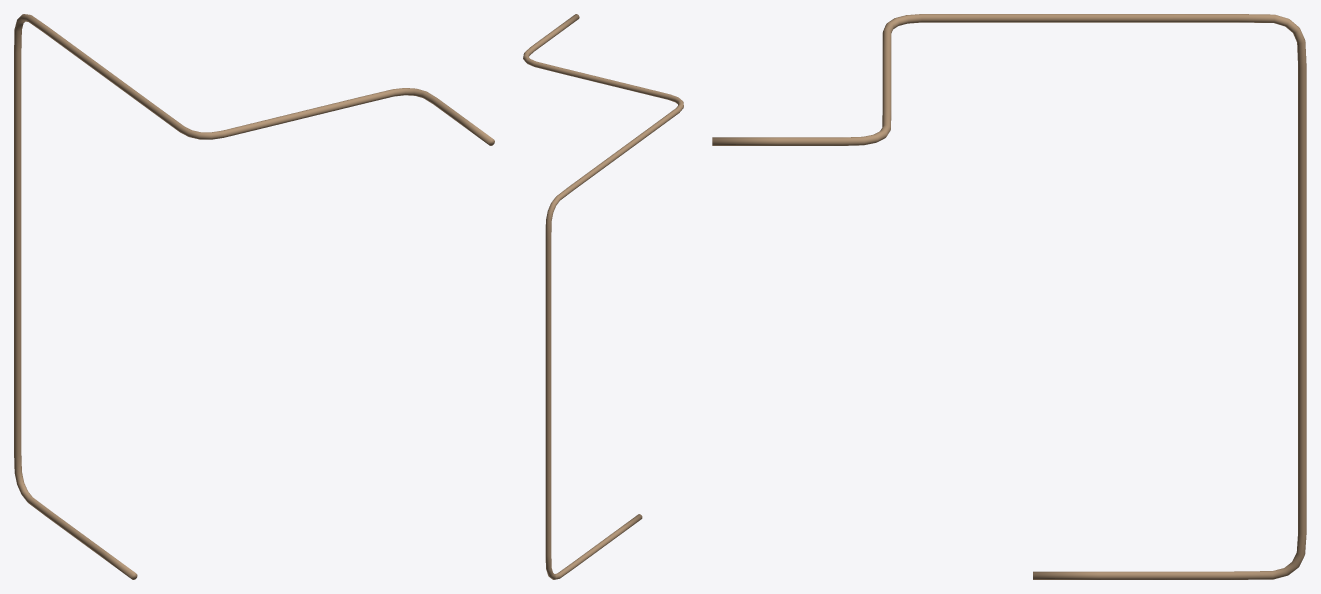
Rendered from pipes_hvac__erv__6586a84a.glb.
The picture shows the model from 3 angles, left to right: view 1: azimuth 30°, elevation 25°; view 2: azimuth 150°, elevation 25°; view 3: azimuth 270°, elevation 25°; orthographic projection. The views are drawn at different scales.
Parts seen in each view (by area): view 1: cable_erv_interlock_hp; view 2: cable_erv_interlock_hp; view 3: cable_erv_interlock_hp.
Part boxes in pixels (x1,y1,x2,y2): cable_erv_interlock_hp: (14,14,494,579); cable_erv_interlock_hp: (523,14,683,579); cable_erv_interlock_hp: (712,14,1306,579).
Size of the model in its own units: 0.2412 by 0.4999 by 0.4764.
